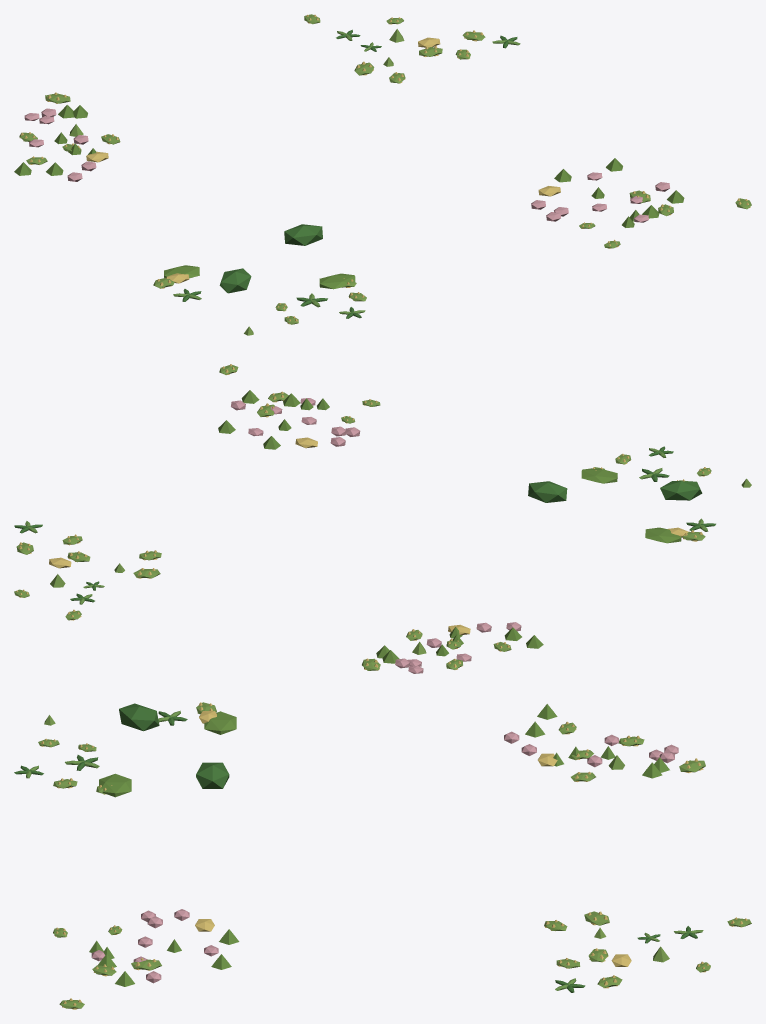
Rendered from path_split_meadow_nonsolid_props.fbx.
3 views of the same model, one above another, from view 1: azimuth 30°, elevation 25°; view 2: azimuth 150°, elevation 25°; view 3: azimuth 270°, elevation 25° (orthographic). The views are drawn at different scales.
Parts seen in each view (by area): view 1: chunk_path_split_meadow__PropsNonSolid; view 2: chunk_path_split_meadow__PropsNonSolid; view 3: chunk_path_split_meadow__PropsNonSolid.
Part boxes in pixels (x1,y1,x2,y2): chunk_path_split_meadow__PropsNonSolid: (14, 14, 751, 335); chunk_path_split_meadow__PropsNonSolid: (14, 364, 751, 673); chunk_path_split_meadow__PropsNonSolid: (14, 702, 751, 1009).
Bounding box in the file's own units: 182 × 10.69 × 189.
